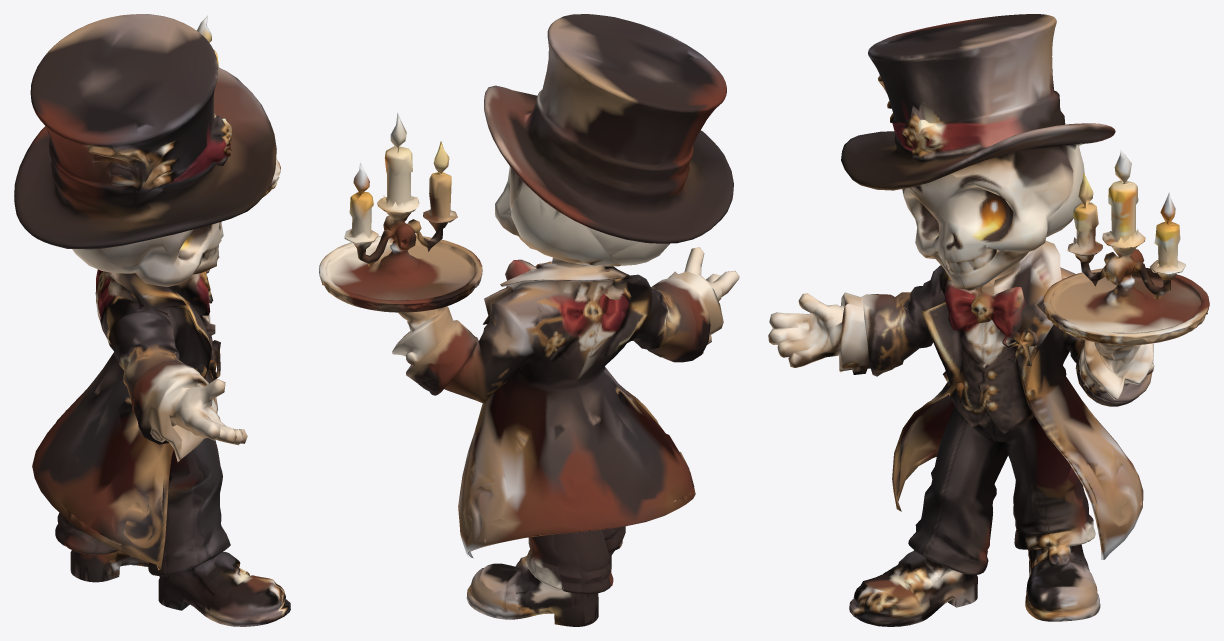
Rendered from skeleton_butler_roblox.glb.
3 views of the same model, side by side, from view 1: azimuth 30°, elevation 25°; view 2: azimuth 150°, elevation 25°; view 3: azimuth 270°, elevation 25° (orthographic).
Parts seen in each view (by area): view 1: HalloweenSkeletonButler_Part002, HalloweenSkeletonButler_Eyes; view 2: HalloweenSkeletonButler_Part002; view 3: HalloweenSkeletonButler_Part002, HalloweenSkeletonButler_Eyes.
Part boxes in pixels (x1=…): HalloweenSkeletonButler_Part002: x1=14, y1=14, x2=290, y2=626; HalloweenSkeletonButler_Eyes: x1=195, y1=222, x2=223, y2=259; HalloweenSkeletonButler_Part002: x1=319, y1=14, x2=739, y2=626; HalloweenSkeletonButler_Part002: x1=768, y1=14, x2=1209, y2=626; HalloweenSkeletonButler_Eyes: x1=910, y1=183, x2=982, y2=275.
Size of the model in its own units: 2.07 by 3.57 by 2.53.
1 material, 1 textured.
